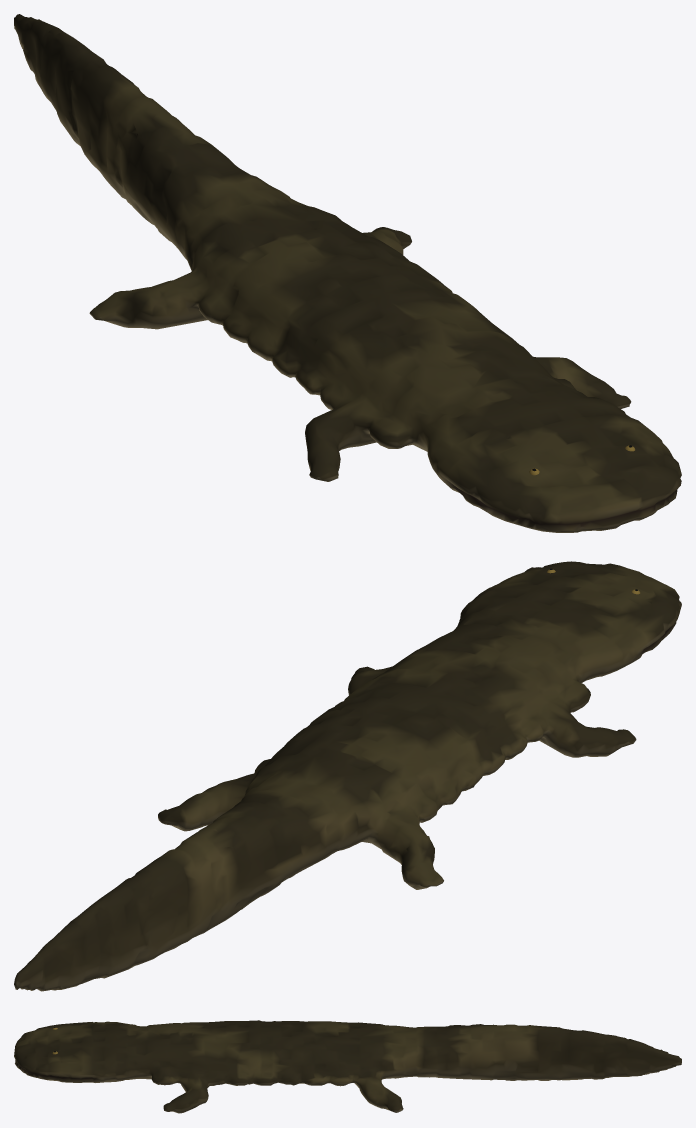
The model's file is AndriasMatthewi.fbx.
The picture shows the model from 3 angles, top to bottom: view 1: azimuth 30°, elevation 25°; view 2: azimuth 150°, elevation 25°; view 3: azimuth 270°, elevation 25°; orthographic projection. The views are drawn at different scales.
Parts seen in each view (by area): view 1: AndriasMatthewi; view 2: AndriasMatthewi; view 3: AndriasMatthewi.
Part boxes in pixels (x1,y1,x2,y2): AndriasMatthewi: (14, 14, 681, 532); AndriasMatthewi: (14, 561, 681, 991); AndriasMatthewi: (14, 1020, 681, 1113).
Size of the model in its own units: 0.5649 by 0.1803 by 2.
